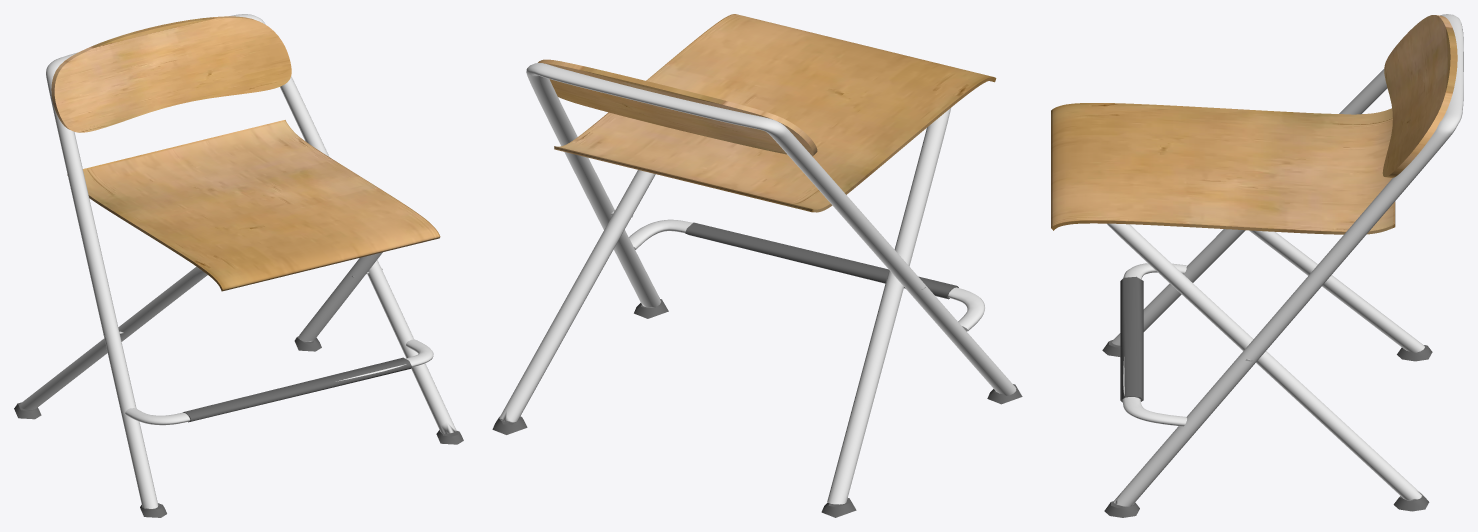
The model's file is sh-contrib-tabouret-bar.glb.
3 views of the same model, side by side, from view 1: azimuth 30°, elevation 25°; view 2: azimuth 150°, elevation 25°; view 3: azimuth 270°, elevation 25° (orthographic). The views are drawn at different scales.
Parts seen in each view (by area): view 1: Extruded_Object_3_3, Tube_1_1, Cylinder_6_5; view 2: Extruded_Object_3_3, Tube_1_1, Cylinder_6_5; view 3: Extruded_Object_3_3, Tube_1_1, Cylinder_6_5.
Boxes of the visible parts, x1,y1,x2,y2 form: Extruded_Object_3_3: (51, 16, 440, 291); Tube_1_1: (20, 14, 456, 508); Cylinder_6_5: (14, 336, 463, 517); Extruded_Object_3_3: (538, 14, 996, 212); Tube_1_1: (499, 63, 1016, 504); Cylinder_6_5: (492, 222, 1022, 517); Extruded_Object_3_3: (1051, 15, 1457, 234); Tube_1_1: (1107, 14, 1463, 506); Cylinder_6_5: (1102, 276, 1432, 517).
Bounding box in the file's own units: 0.997 × 1 × 1.
Materials: 4 (1 with a texture image).
